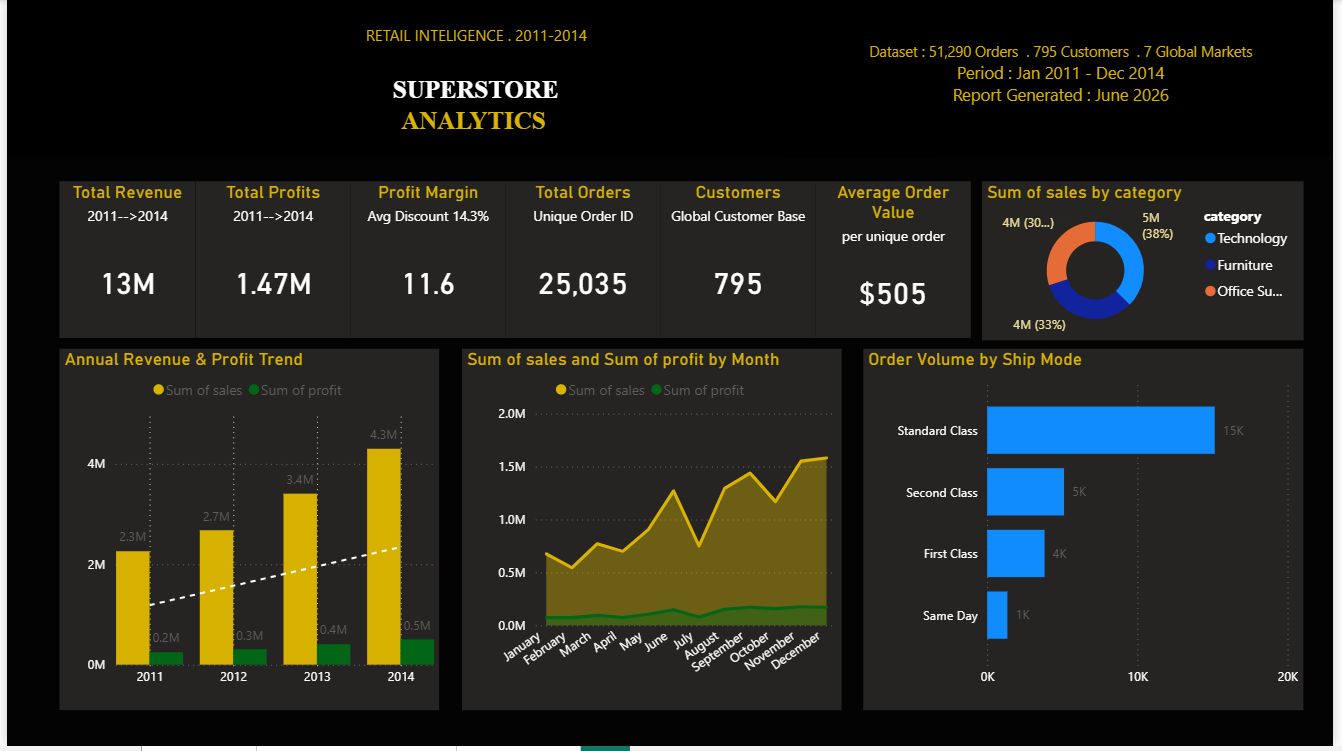

The dashboard page shown, as its layout file describes it:
{"tool":"powerbi","page":{"name":"Overview","canvas":[1280,720],"ordinal":0},"visuals":[{"type":"textbox","box":[0,0,896.4,150.8],"z":0},{"type":"textbox","box":[754,0,526,150.8],"z":1000},{"type":"card","title":"Total Revenue","fields":{"Values":["cleaned_superstore.Total Sales"]},"box":[50.7,174.9,131.5,150.8],"z":2000},{"type":"card","title":"Total Profits","fields":{"Values":["cleaned_superstore.Total Profit"]},"box":[182.2,174.9,149.6,150.8],"z":3000},{"type":"card","title":"Profit Margin","fields":{"Values":["cleaned_superstore.Profit Margin"]},"box":[331.8,174.9,149.6,150.8],"z":4000},{"type":"card","title":"Total Orders","fields":{"Values":["cleaned_superstore.Total Orders"]},"box":[481.4,174.9,149.6,150.8],"z":5000},{"type":"card","title":"Customers","fields":{"Values":["cleaned_superstore.Total Customers"]},"box":[631,174.9,149.6,150.8],"z":6000},{"type":"card","title":"Average Order Value","fields":{"Values":["cleaned_superstore.Average Order Value"]},"box":[780.6,174.9,149.6,150.8],"z":7000},{"type":"clusteredColumnChart","title":"Annual Revenue & Profit Trend","fields":{"Y":["Sum(cleaned_superstore.sales)","Sum(cleaned_superstore.profit)"],"Category":["cleaned_superstore.order_date.Variation.Date Hierarchy.Year"]},"box":[50.7,336.6,366.8,348.7],"z":8000},{"type":"lineChart","fields":{"Category":["cleaned_superstore.order_date.Variation.Date Hierarchy.Month"],"Y":["Sum(cleaned_superstore.sales)","Sum(cleaned_superstore.profit)"]},"box":[439.1,336.6,366.8,348.7],"z":9000},{"type":"donutChart","fields":{"Y":["Sum(cleaned_superstore.sales)"],"Category":["cleaned_superstore.category"]},"box":[941.5,174.9,310.1,153.2],"z":10000},{"type":"barChart","title":"Order Volume by Ship Mode","fields":{"Category":["cleaned_superstore.ship_mode"],"Y":["cleaned_superstore.Total Orders"]},"box":[826.4,336.6,424.7,348.7],"z":11000}]}

Visuals, with their boxes in screenshot pixels (x1, y1, x2, y2), scaled from the page's 1280x720 canvas onto the 1342x751 screenshot:
textbox: 0, 0, 940, 157
textbox: 791, 0, 1341, 157
"Total Revenue" card: 53, 182, 191, 340
"Total Profits" card: 191, 182, 348, 340
"Profit Margin" card: 348, 182, 505, 340
"Total Orders" card: 505, 182, 662, 340
"Customers" card: 662, 182, 818, 340
"Average Order Value" card: 818, 182, 975, 340
"Annual Revenue & Profit Trend" clusteredColumnChart: 53, 351, 438, 715
lineChart - cleaned_superstore.order_date.Variation.Date Hierarchy.Month x Sum(cleaned_superstore.sales): 460, 351, 845, 715
donutChart - Sum(cleaned_superstore.sales) x cleaned_superstore.category: 987, 182, 1312, 342
"Order Volume by Ship Mode" barChart: 866, 351, 1312, 715
